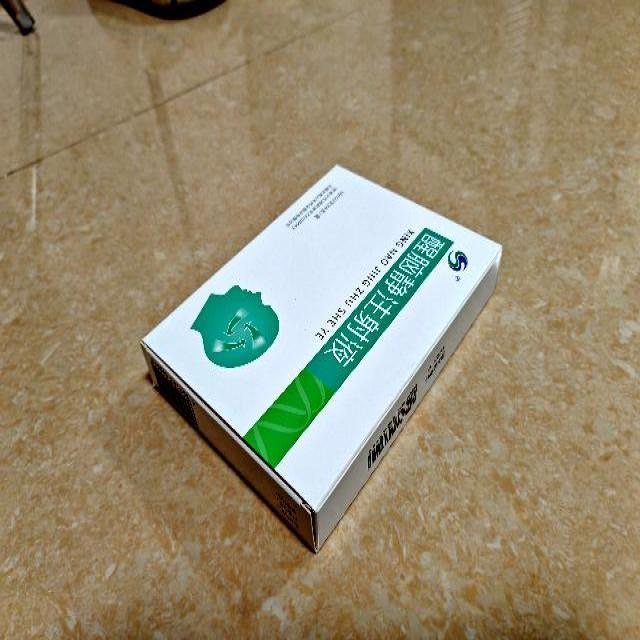box: (138, 160, 504, 552)
